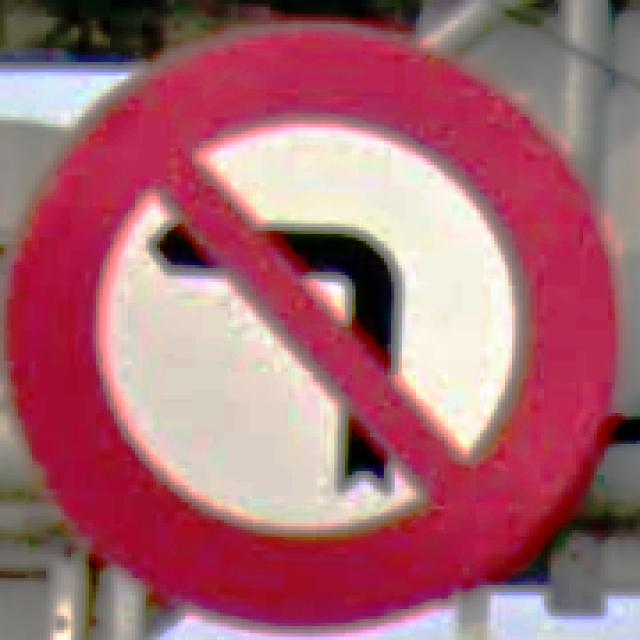noturnleft: (0, 13, 626, 630)
